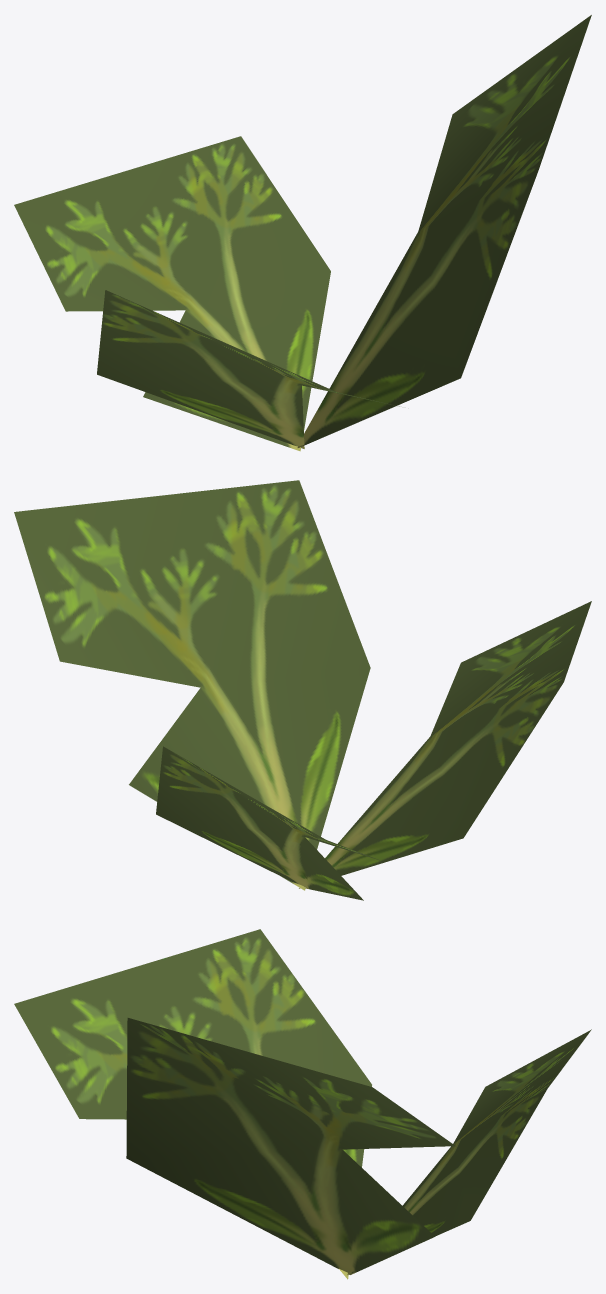
The model's file is plant_carrot_S1.fbx.
The picture shows the model from 3 angles, top to bottom: view 1: azimuth 30°, elevation 25°; view 2: azimuth 150°, elevation 25°; view 3: azimuth 270°, elevation 25°; orthographic projection. The views are drawn at different scales.
Visible parts, largest first — view 1: plant_carrot_S1; view 2: plant_carrot_S1; view 3: plant_carrot_S1.
Part boxes in pixels (box(x1,y1,x2,y2)): plant_carrot_S1: box(14, 15, 591, 451); plant_carrot_S1: box(14, 480, 591, 900); plant_carrot_S1: box(14, 929, 591, 1279).
Bounding box in the file's own units: 35.23 × 21.68 × 34.38.
